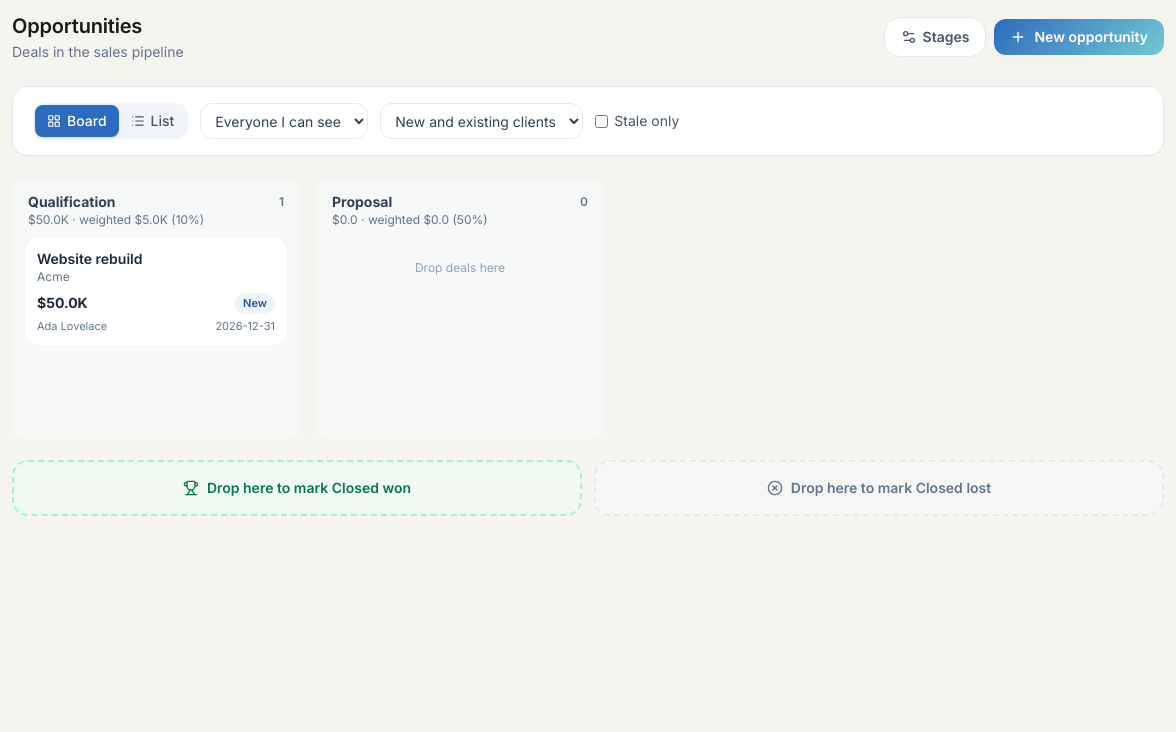
Scenario: Deals page › switches to the list view
Expected: the text "Website rebuild" is shown, [37, 250, 142, 267]
Click the button "List" at x=152, y=121, box [118, 105, 186, 137]
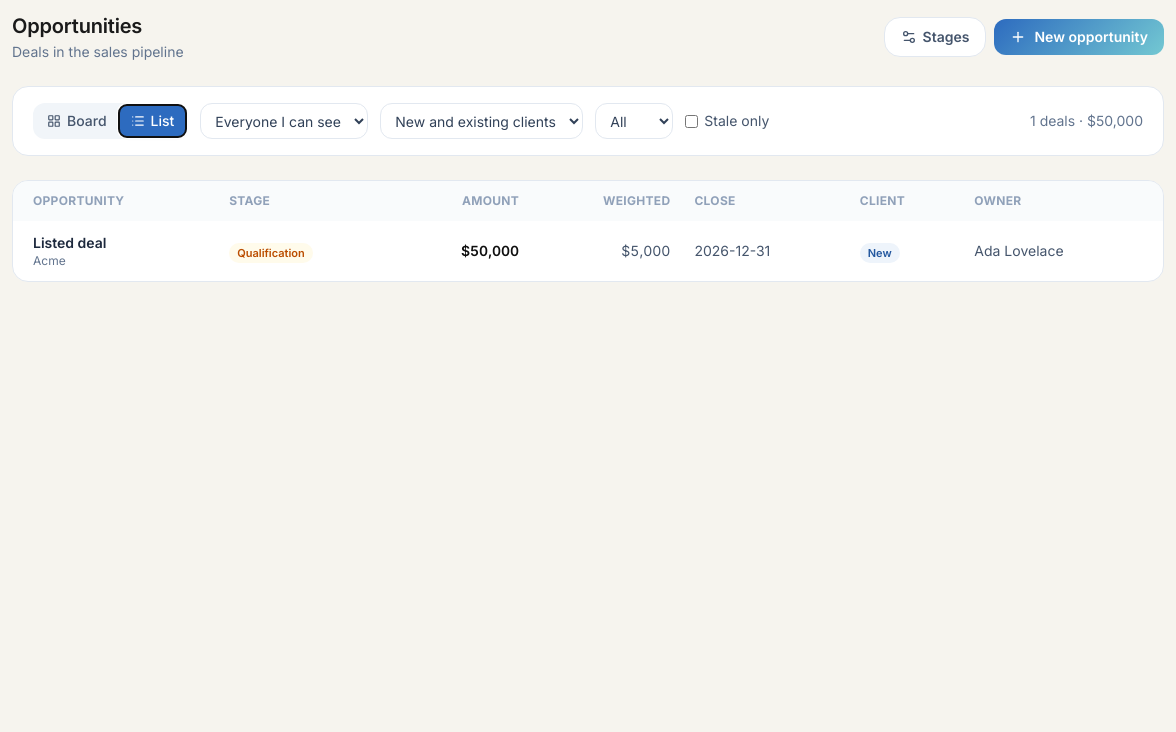
Expected: the text "Listed deal" is shown, [33, 234, 106, 251]
